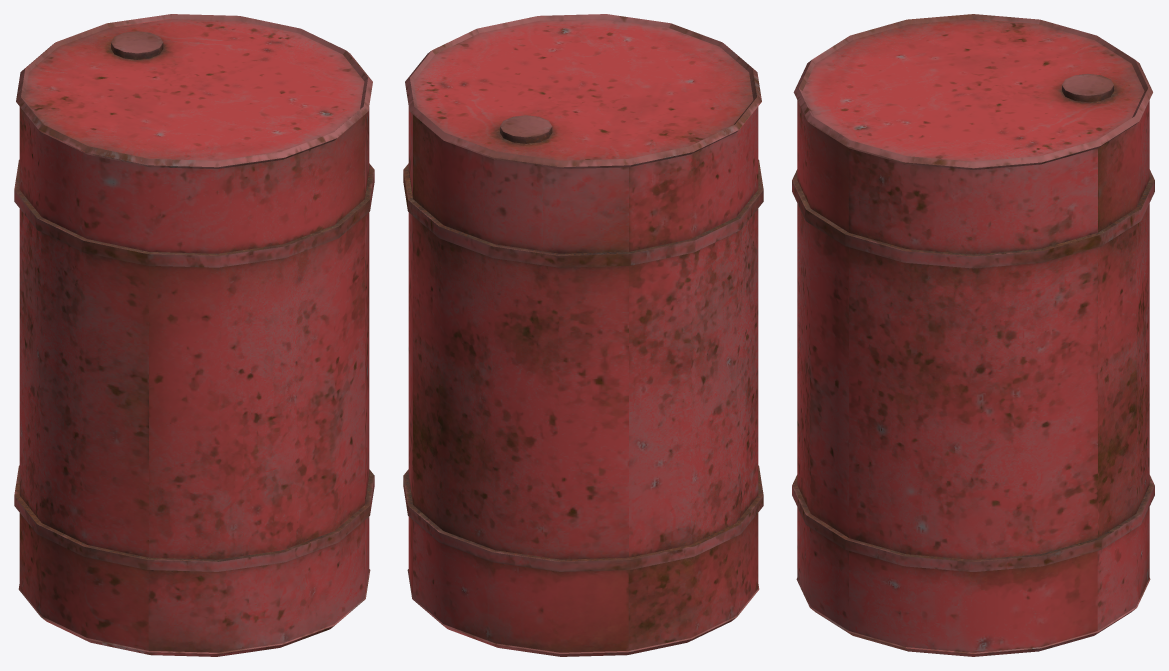
The model's file is Factory_Barrel.fbx.
3 renders of one model, left to right at view 1: azimuth 30°, elevation 25°; view 2: azimuth 150°, elevation 25°; view 3: azimuth 270°, elevation 25°, orthographic.
Visible parts, largest first — view 1: OilBarrel; view 2: OilBarrel; view 3: OilBarrel.
Boxes of the visible parts, <box> form: OilBarrel: <box>14,14,374,656</box>; OilBarrel: <box>403,14,763,656</box>; OilBarrel: <box>792,14,1154,656</box>.
Size of the model in its own units: 118 by 179 by 118.
Materials: 1 (1 with a texture image).
